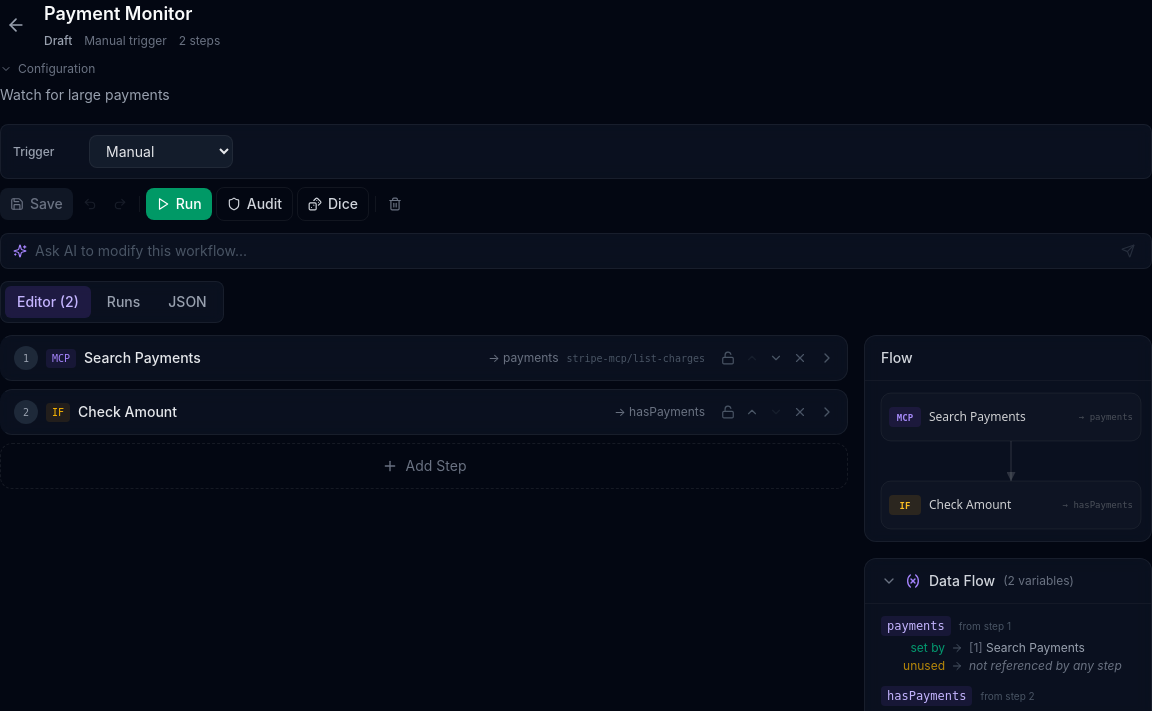
Test: WorkflowEditor › shows delete confirmation dialog
Expected: the field showing "Payment Monitor" is shown, [44,0,1151,31]
What coordinates should you click on to do the following:
click the button titled "Delete workflow"
I would click on:
 (395, 204)
Its box is [382,191,408,217].
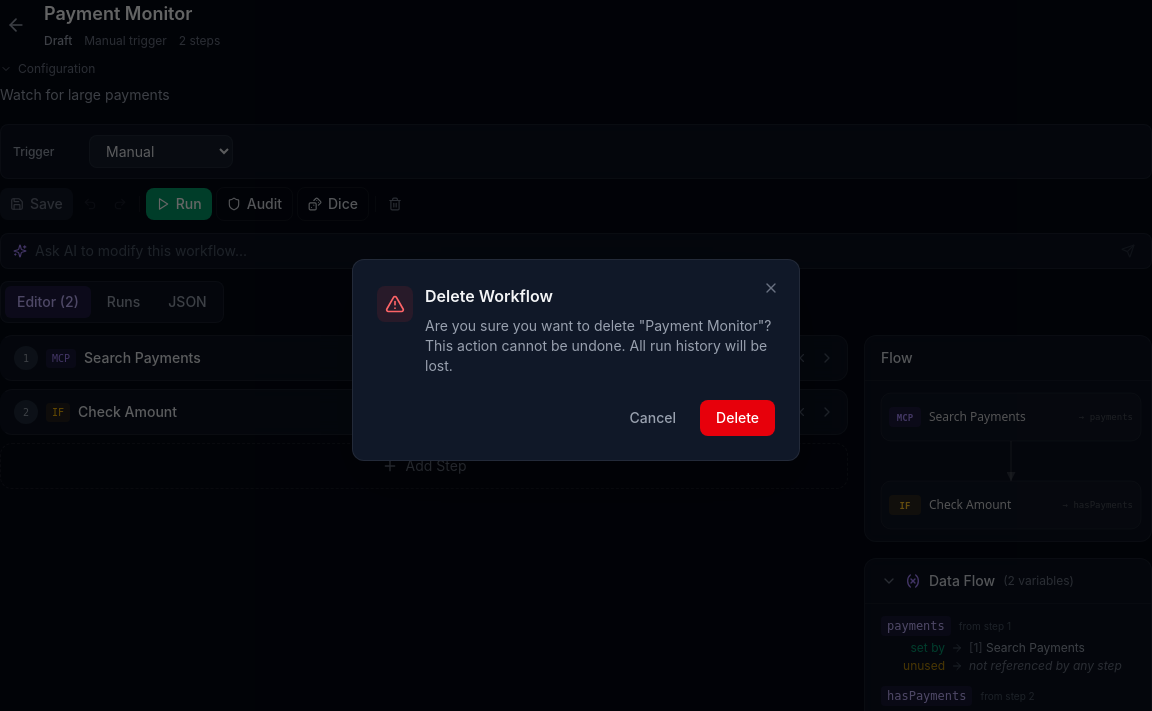
Expected: the heading "Delete Workflow" is shown, [425,286,553,306]
Expected: the text "cannot be undone" is shown, [425,317,771,374]
